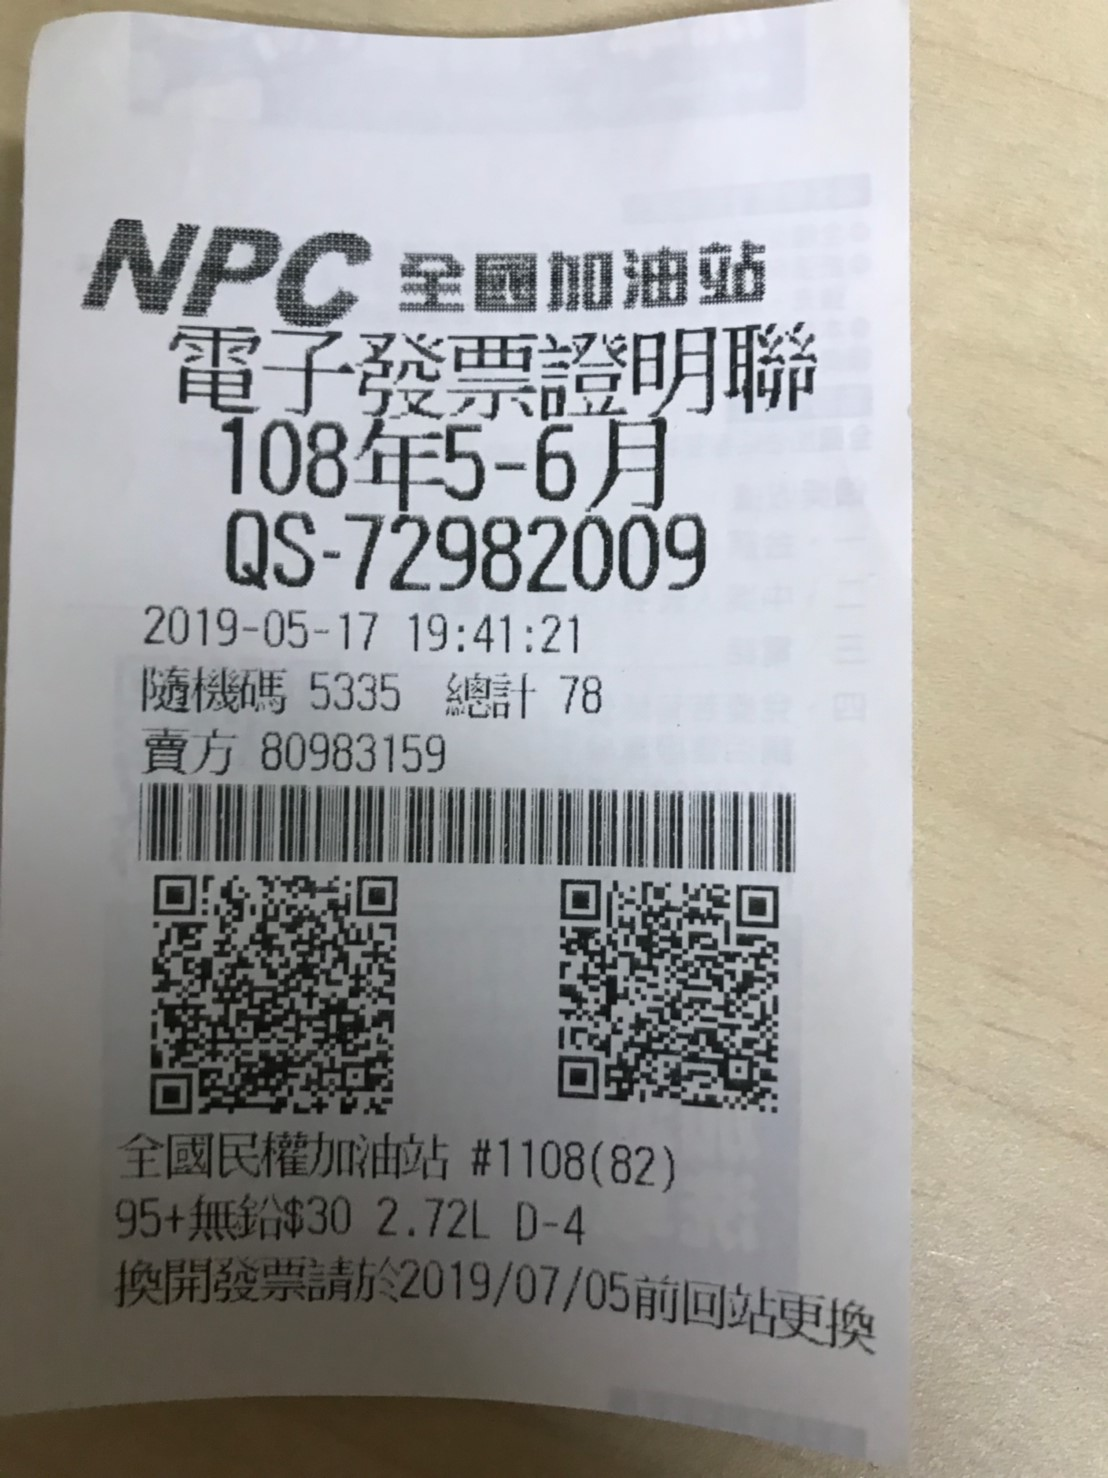Date_New: (219, 415, 673, 516)
Number_New: (347, 510, 706, 591)
